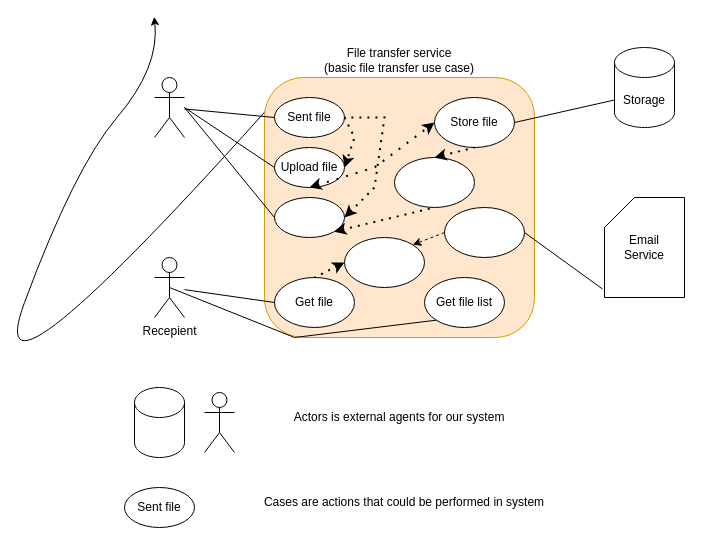
Image size: 703x545. Some labels were removed from this diagram. Each missing label, with the box of its shape:
Get Avaliable: (344, 236, 424, 288)
Sender: (154, 76, 184, 138)
Sent email: (444, 206, 524, 258)
Sent file metadate: (394, 156, 474, 208)
Specify Recepient: (274, 196, 344, 238)
